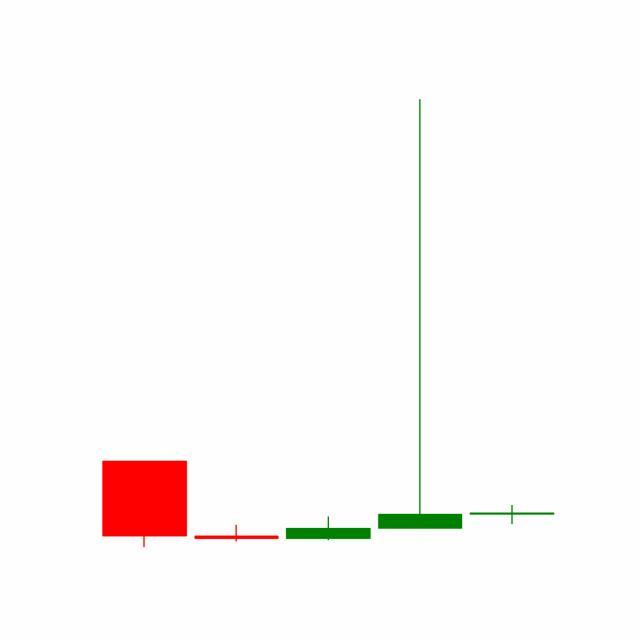Spinning Top: (466, 504, 559, 525)
